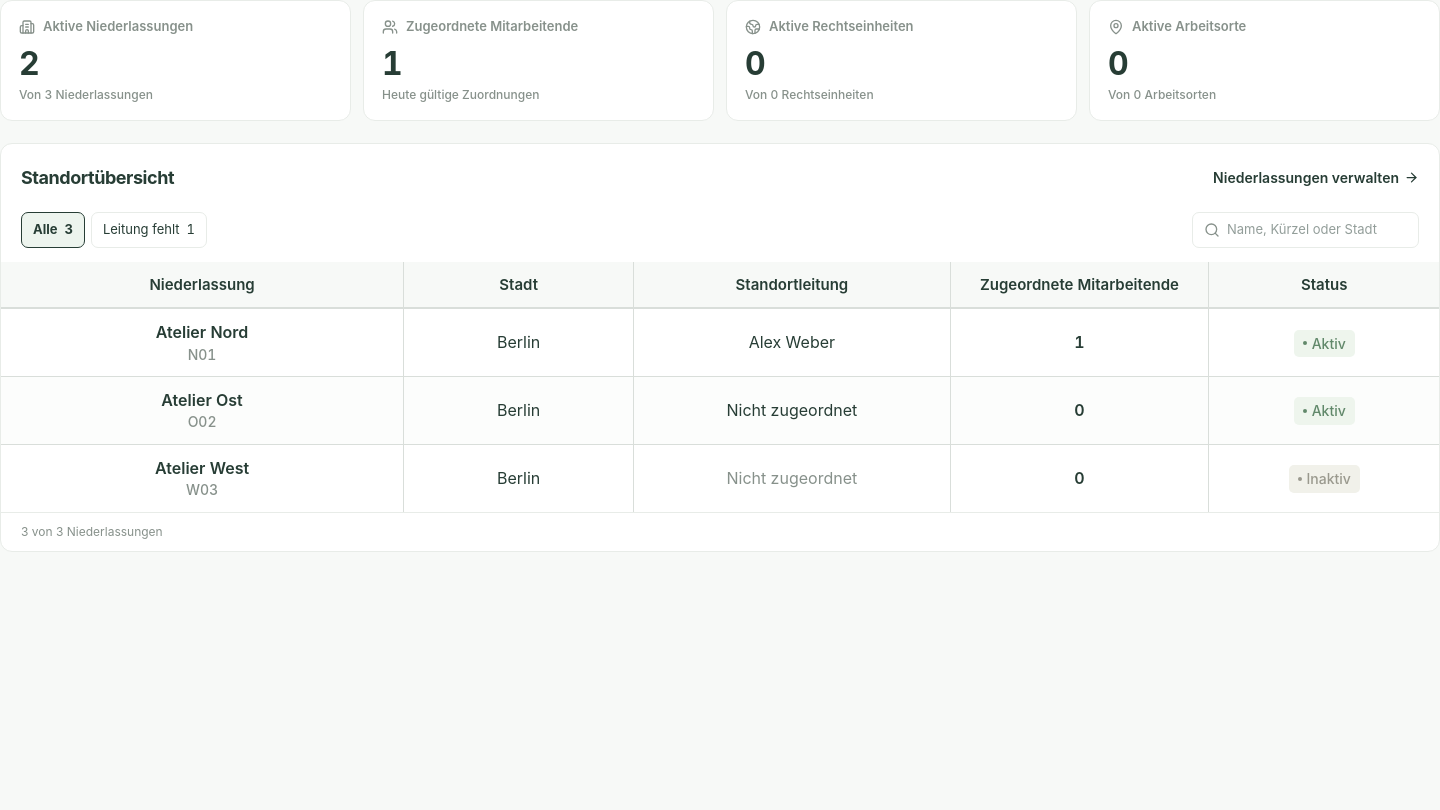
Scenario: admin overview › shows current assignments, filters active branches needing a lead and opens a branch
Check: the cell "Alex Weber" is shown, box [634,308,950,377]
Check: the cell "1" is shown, box [950,308,1209,377]
Click the button "Leitung fehlt 1" at x=149, y=230, box [91,212,207,248]
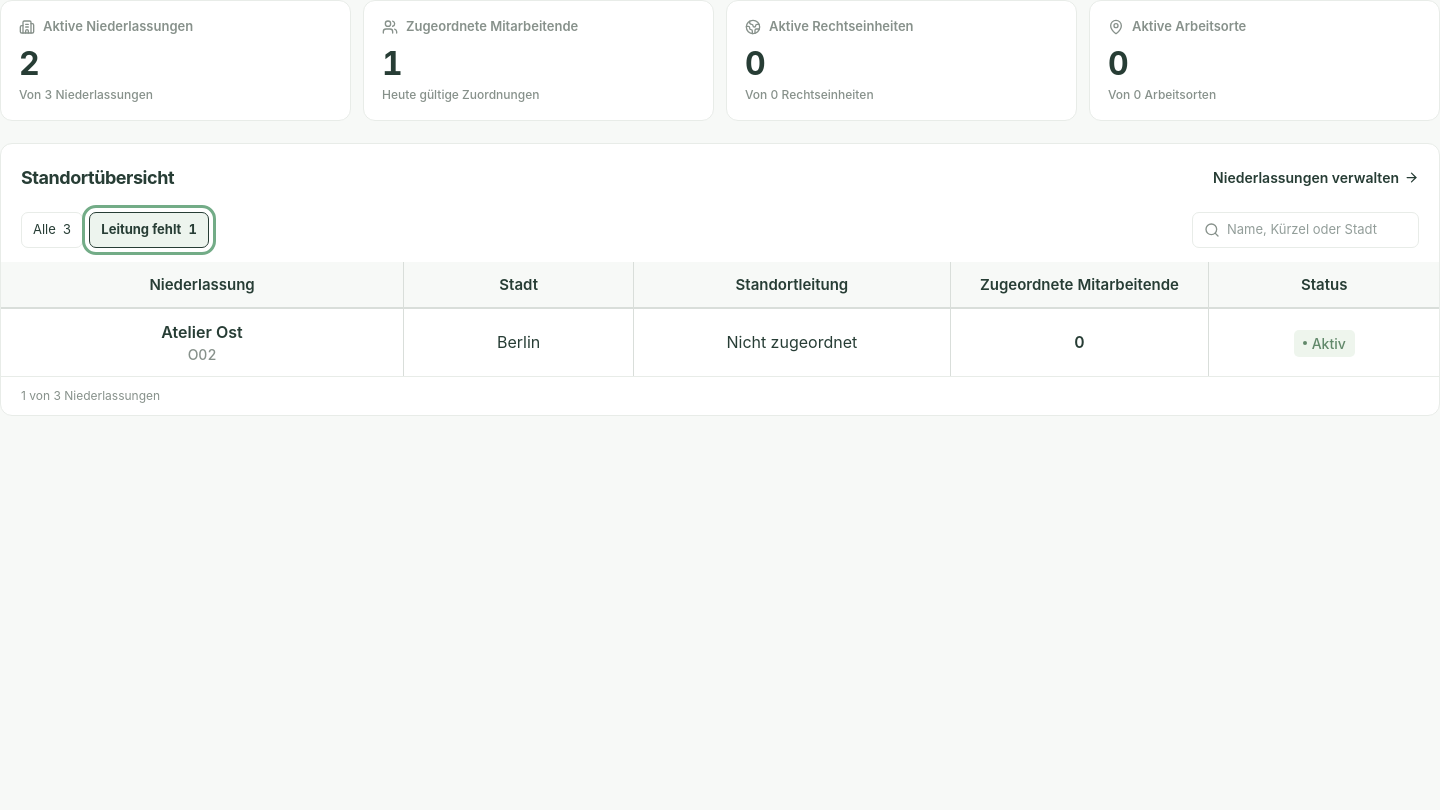
Check: the number of rows is 2, box [1,262,1439,308]; [1,308,1439,376]
Click the button "Atelier Ost" at x=202, y=333, box [161,321,243,345]
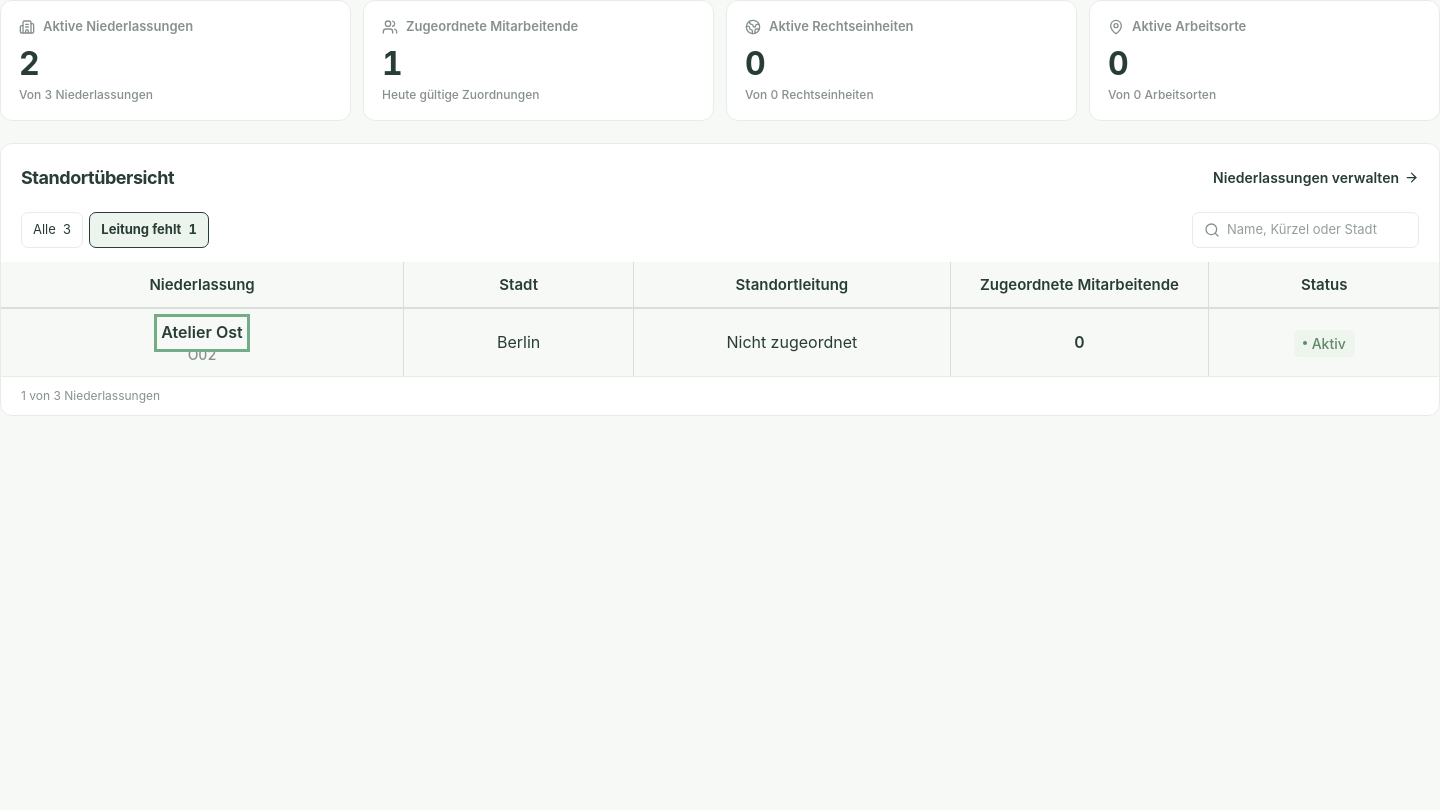
Type "N01" into the search field at x=1317, y=230, box [1227,220,1407,239]
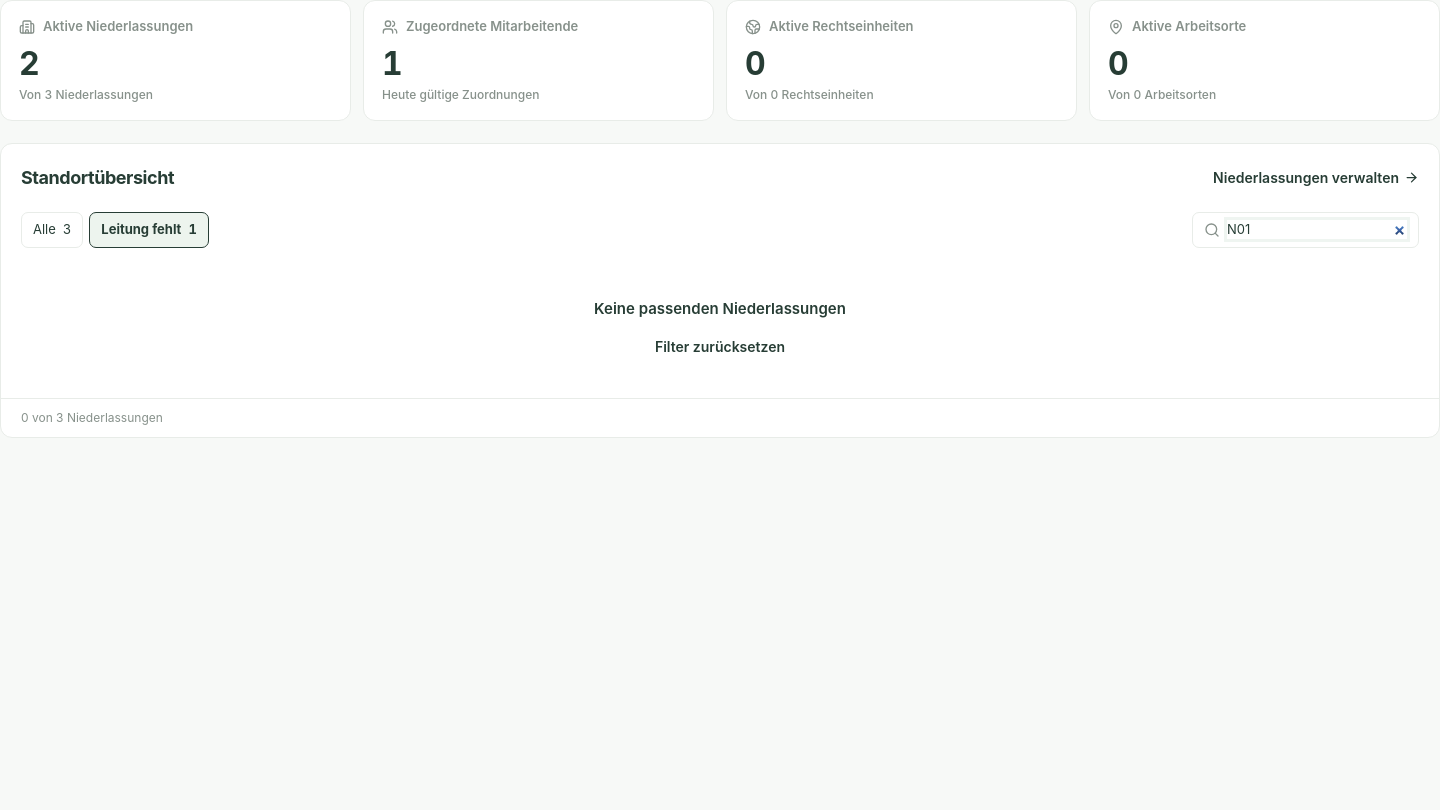
Check: the text "Keine passenden Niederlassungen" is shown, box [594,298,846,320]
Click the button "Filter zurücksetzen" at x=720, y=346, box [655,330,785,362]
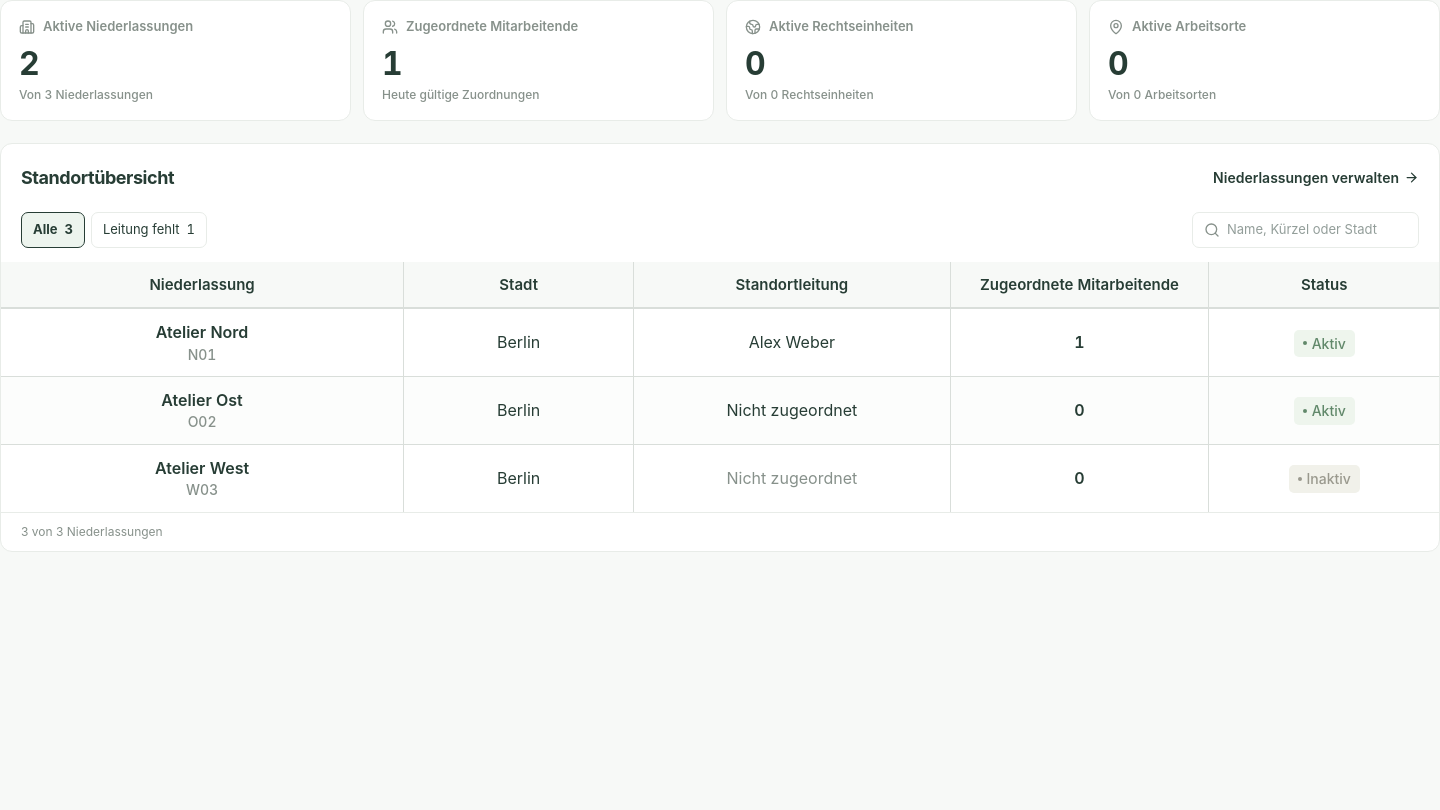
Check: the number of rows is 4, box [1,262,1439,308]; [1,308,1439,377]; [1,377,1439,444]; [1,444,1439,512]
